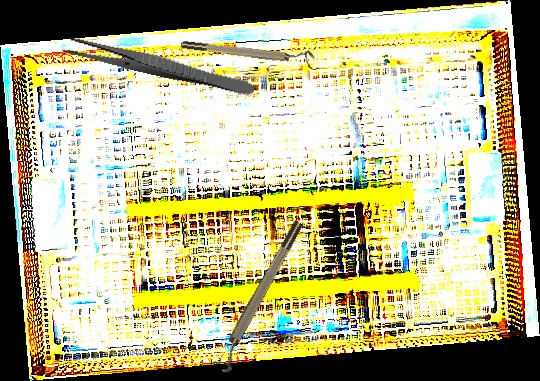Dressing Forceps: (61, 34, 257, 98)
Fixation Ring: (208, 218, 313, 375), (180, 32, 316, 70)
